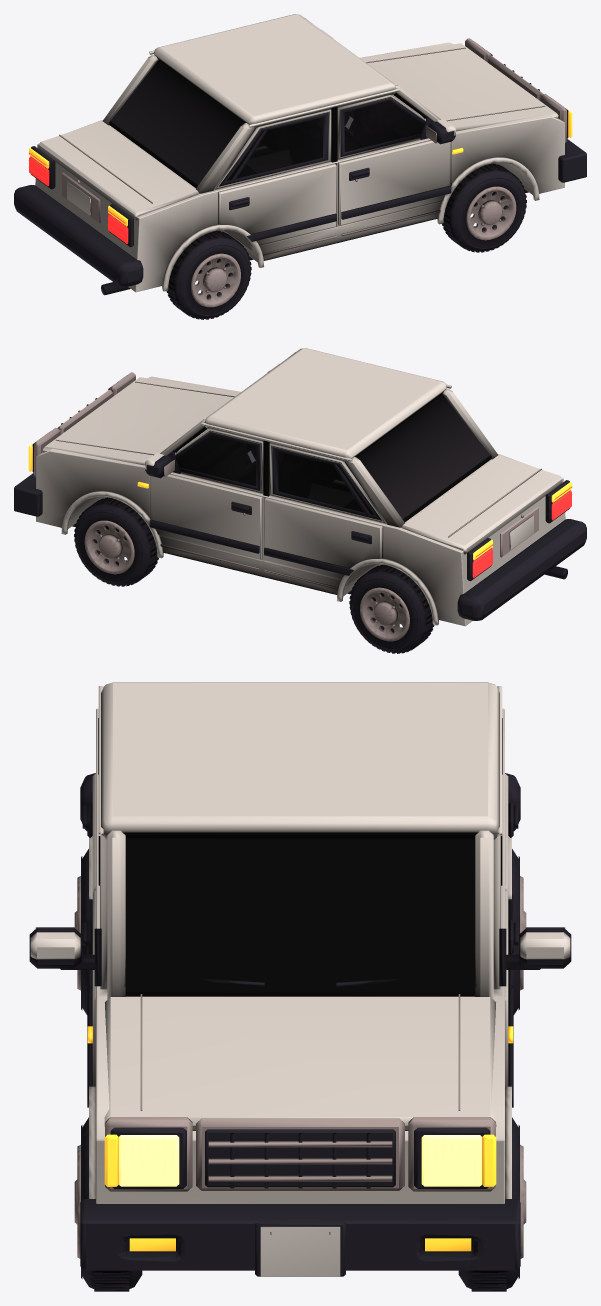
3 views of the same model, one above another, from view 1: azimuth 30°, elevation 25°; view 2: azimuth 150°, elevation 25°; view 3: azimuth 270°, elevation 25° (orthographic). The views are drawn at different scales.
Visible parts, largest first — view 1: body, static_pal_uiDark, static_pal_asphalt, doorRearL_pal_picketWhite, doorL_pal_picketWhite, wheelRL_pal_uiDark, wheelFL_pal_uiDark, doorRearL_pal_asphalt, doorL_pal_asphalt, doorL_pal_uiDark, doorRearL_pal_uiDark, static_pal_sidewalk (+3 smaller); view 2: body, static_pal_uiDark, static_pal_asphalt, doorRearR_pal_picketWhite, doorR_pal_picketWhite, wheelRR_pal_uiDark, wheelFR_pal_uiDark, doorRearR_pal_asphalt, doorR_pal_asphalt, doorR_pal_uiDark, doorRearR_pal_uiDark, static_pal_sidewalk (+3 smaller); view 3: body, static_pal_uiDark, static_pal_asphalt, static_pal_sidewalk, doorL_pal_picketWhite, doorR_pal_picketWhite, lampHeadL_emi_windowGlow, lampHeadR_emi_windowGlow, doorL_pal_uiDark, doorR_pal_uiDark, wheelFL_pal_uiDark, wheelFR_pal_uiDark (+7 smaller).
Part boxes in pixels (box(x1,y1,x2,y2)): body: box(35, 14, 564, 292); static_pal_uiDark: box(14, 60, 586, 295); static_pal_asphalt: box(109, 59, 244, 185); doorRearL_pal_picketWhite: box(213, 109, 336, 245); doorL_pal_picketWhite: box(337, 95, 455, 225); wheelRL_pal_uiDark: box(166, 230, 251, 319); wheelFL_pal_uiDark: box(442, 163, 526, 252); doorRearL_pal_asphalt: box(227, 118, 322, 180); doorL_pal_asphalt: box(344, 101, 424, 151); doorL_pal_uiDark: box(340, 98, 455, 219); doorRearL_pal_uiDark: box(218, 113, 336, 241); static_pal_sidewalk: box(59, 38, 566, 223); body: box(36, 348, 565, 626); static_pal_uiDark: box(14, 394, 586, 620); static_pal_asphalt: box(356, 393, 491, 519); doorRearR_pal_picketWhite: box(264, 443, 387, 579); doorR_pal_picketWhite: box(145, 429, 263, 559); wheelRR_pal_uiDark: box(349, 564, 434, 653); wheelFR_pal_uiDark: box(74, 497, 158, 586); doorRearR_pal_asphalt: box(278, 452, 373, 514); doorR_pal_asphalt: box(176, 435, 256, 485); doorR_pal_uiDark: box(145, 432, 260, 553); doorRearR_pal_uiDark: box(264, 447, 382, 575); static_pal_sidewalk: box(34, 372, 541, 557); body: box(89, 682, 511, 1276); static_pal_uiDark: box(80, 773, 520, 1276); static_pal_asphalt: box(124, 837, 476, 988); static_pal_sidewalk: box(105, 994, 495, 1234); doorL_pal_picketWhite: box(30, 836, 107, 1086); doorR_pal_picketWhite: box(493, 836, 570, 1086); lampHeadL_emi_windowGlow: box(119, 1135, 179, 1186); lampHeadR_emi_windowGlow: box(421, 1135, 481, 1186); doorL_pal_uiDark: box(29, 836, 101, 1107); doorR_pal_uiDark: box(499, 836, 571, 1107); wheelFL_pal_uiDark: box(81, 1117, 142, 1291); wheelFR_pal_uiDark: box(458, 1117, 519, 1291).
Size of the model in its own units: 4.8 by 1.83 by 2.39.
